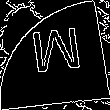M_S: (25, 27, 85, 83)
